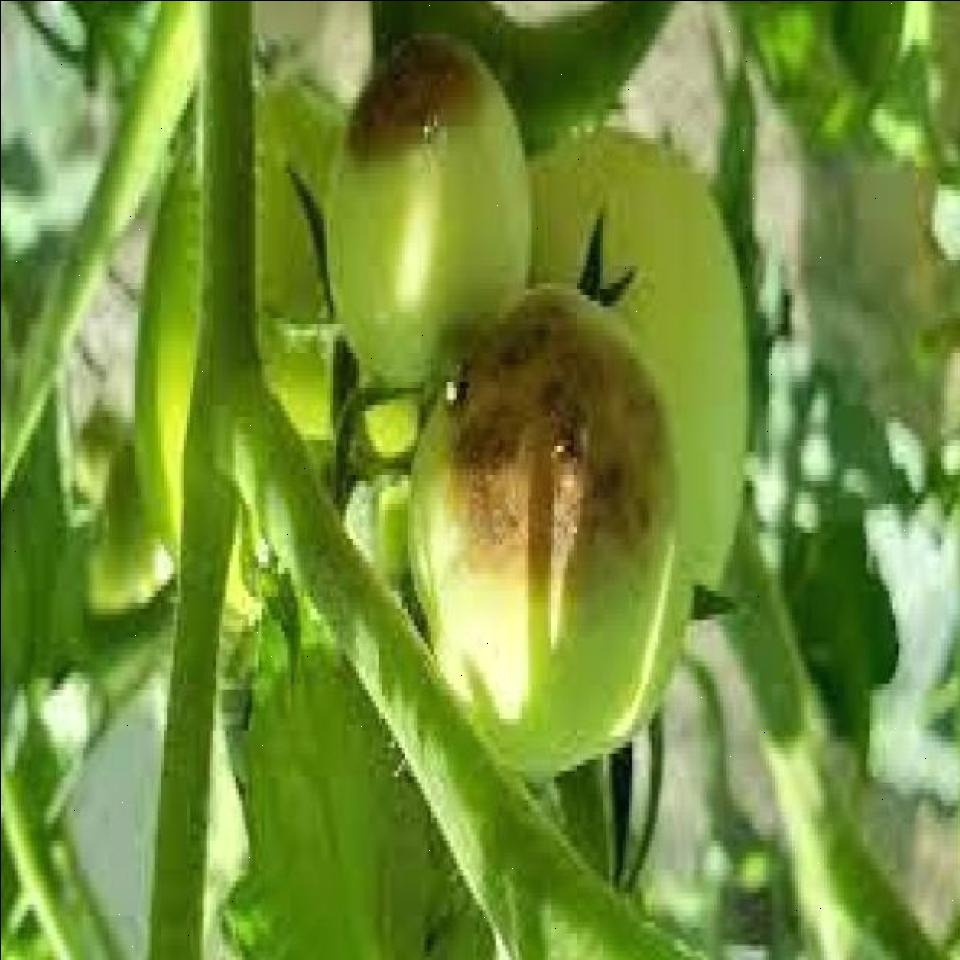Blossom_end_rot: (430, 296, 669, 596), (338, 56, 502, 167)
